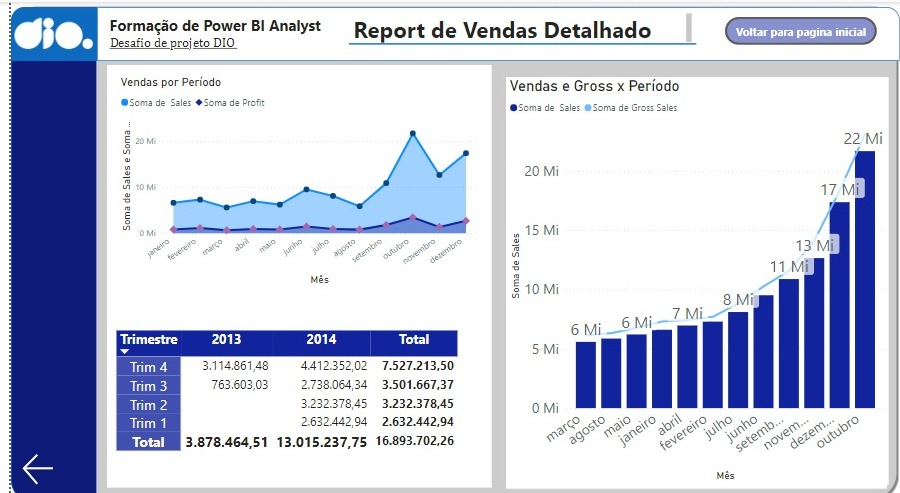

Layout of this report page (visuals, bound fields, positions):
{"tool":"powerbi","page":{"name":"detalhado ","canvas":[1280,720],"ordinal":2},"visuals":[{"type":"shape","box":[0,0,1280,720],"z":0},{"type":"shape","box":[487.1,41.6,500.1,37.1],"z":0,"group":"g1"},{"type":"shape","box":[137.9,91.1,554.3,608.6],"z":0,"group":"g2"},{"type":"textbox","box":[488.6,11.4,497.2,52.2],"z":1000,"group":"g1"},{"type":"shape","box":[0,34.2,123.4,685.3],"z":1000},{"type":"shape","box":[123.8,7.2,1156.3,77.8],"z":2000},{"type":"textbox","box":[136.8,14.6,335.9,70.4],"z":3000},{"type":"areaChart","title":"Vendas por Período","fields":{"Category":["financials.Date.Variation.Hierarquia de datas.Trimestre","financials.Date.Variation.Hierarquia de datas.Mês"],"Y":["Sum(financials. Sales)","Sum(financials.Profit)"]},"box":[152.2,105.4,522.9,308.6],"z":3000,"group":"g2"},{"type":"pivotTable","fields":{"Columns":["financials.Date.Variation.Hierarquia de datas.Ano"],"Rows":["financials.Date.Variation.Hierarquia de datas.Trimestre"],"Values":["Sum(financials.Profit)"]},"box":[146.6,468.1,508.3,196],"z":4000,"group":"g2"},{"type":"shape","box":[712.9,108.6,548.6,592.9],"z":7000},{"type":"shape","box":[0,7.2,123.8,77.8],"z":9000},{"type":"image","title":"dio","box":[0,5.7,122.9,78.6],"z":10000},{"type":"actionButton","box":[11.4,645.7,100,55.7],"z":11000},{"type":"group","id":"g1","title":"Sales report","box":[487.1,11.4,500,67.1],"z":15000},{"type":"lineClusteredColumnComboChart","title":"Vendas e Gross x Período","fields":{"Category":["financials.Date.Variation.Hierarquia de datas.Mês"],"Y":["Sum(financials. Sales)"],"Y2":["Sum(financials.Gross Sales)"]},"box":[712.9,108.6,551.4,587.1],"z":15001},{"type":"group","id":"g2","title":"Detalhes venda x profit","box":[137.9,91.1,554.3,608.6],"z":15002},{"type":"actionButton","box":[1028.6,21.4,218.6,40],"z":15003}]}

Visuals, with their boxes in screenshot pixels (x1, y1, x2, y2), scaled from the page's 1280x720 canvas onto the 900x493 screenshot:
shape: region(0, 0, 899, 492)
shape: region(342, 28, 694, 54)
shape: region(97, 62, 487, 479)
textbox: region(344, 8, 693, 44)
shape: region(0, 23, 87, 492)
shape: region(87, 5, 899, 58)
textbox: region(96, 10, 332, 58)
"Vendas por Período" areaChart: region(107, 72, 475, 283)
pivotTable - financials.Date.Variation.Hierarquia de datas.Ano x financials.Date.Variation.Hierarquia de datas.Trimestre: region(103, 321, 460, 455)
shape: region(501, 74, 887, 480)
shape: region(0, 5, 87, 58)
"dio" image: region(0, 4, 86, 58)
actionButton: region(8, 442, 78, 480)
"Sales report" group: region(342, 8, 694, 54)
"Vendas e Gross x Período" lineClusteredColumnComboChart: region(501, 74, 889, 476)
"Detalhes venda x profit" group: region(97, 62, 487, 479)
actionButton: region(723, 15, 877, 42)
